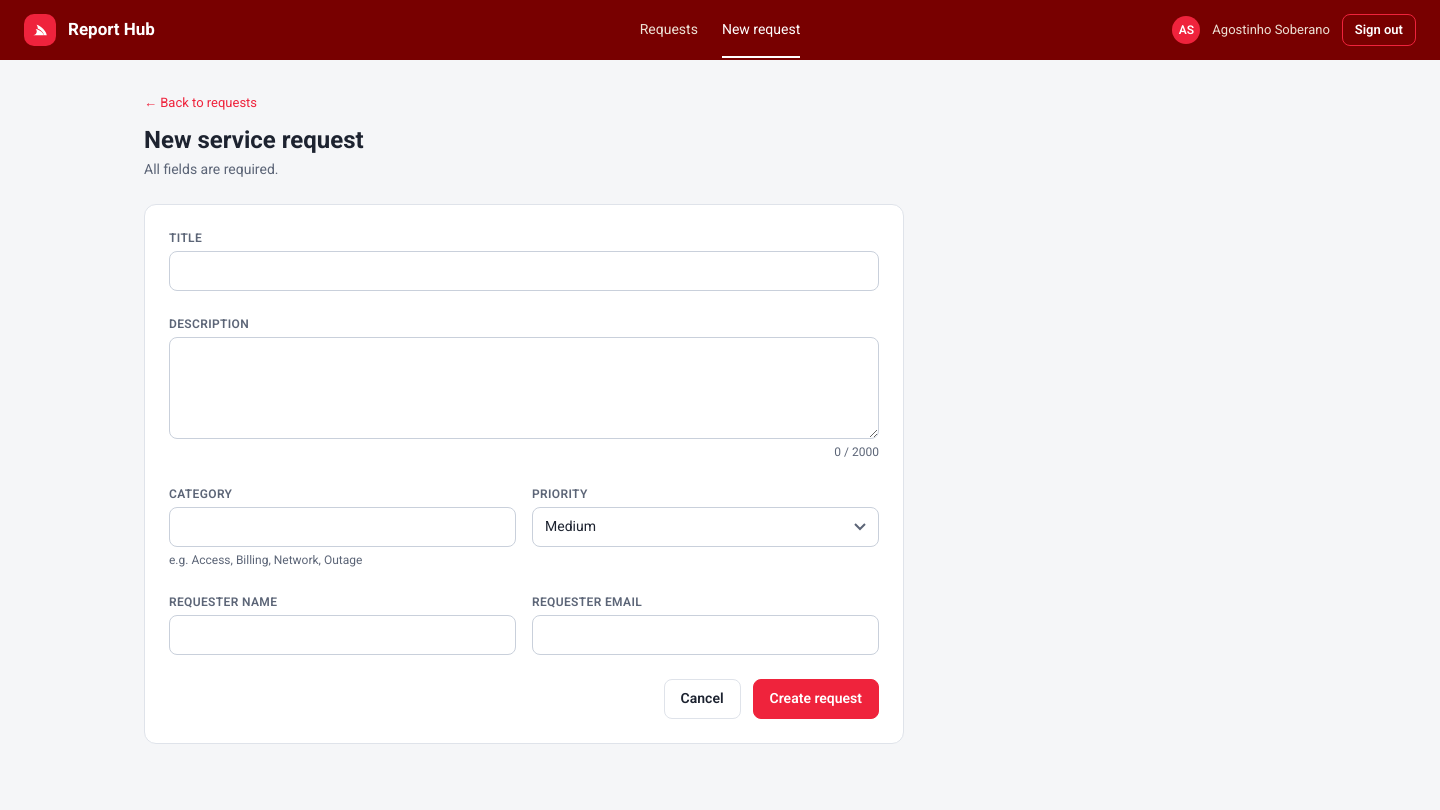
Test case: create request › creates the request and opens it
Type "March statement missing" into the field labelled "Title" at [524, 270], box 169,250 -> 879,290
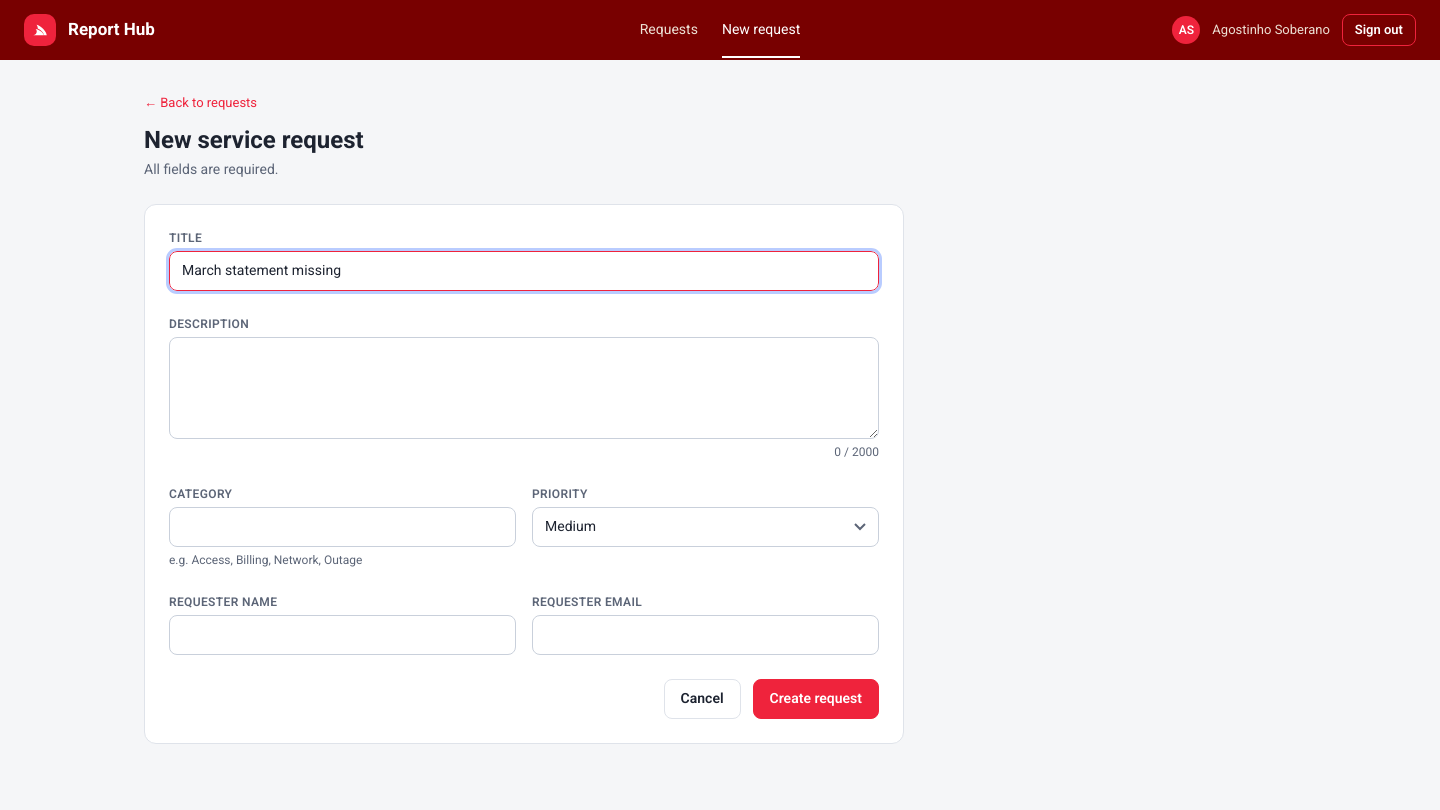
Type "The customer cannot see the March statement." into the text box labelled "Description" at [524, 388], box 169,336 -> 879,438
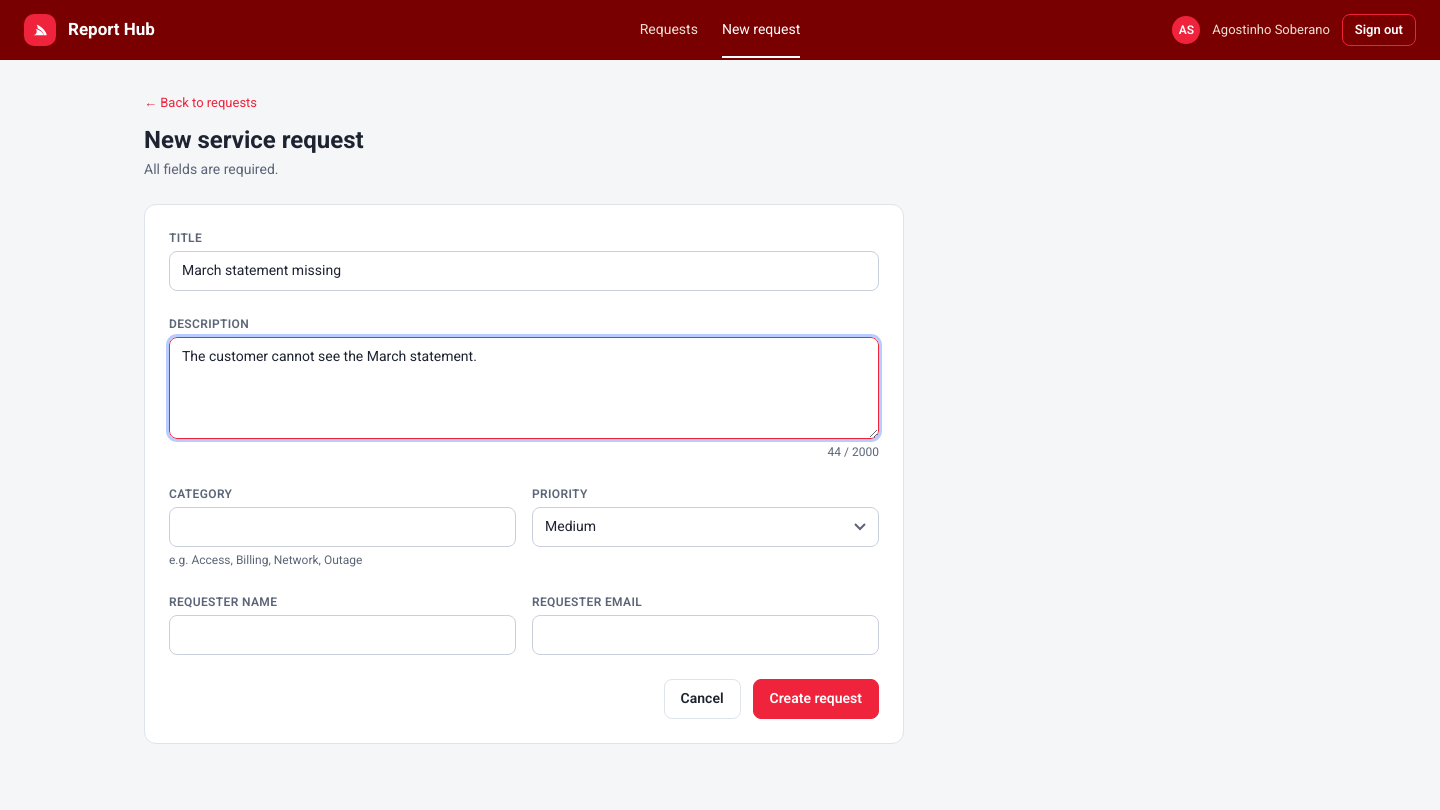
Type "Billing" into the field labelled "Category" at [342, 526], box 169,506 -> 516,546
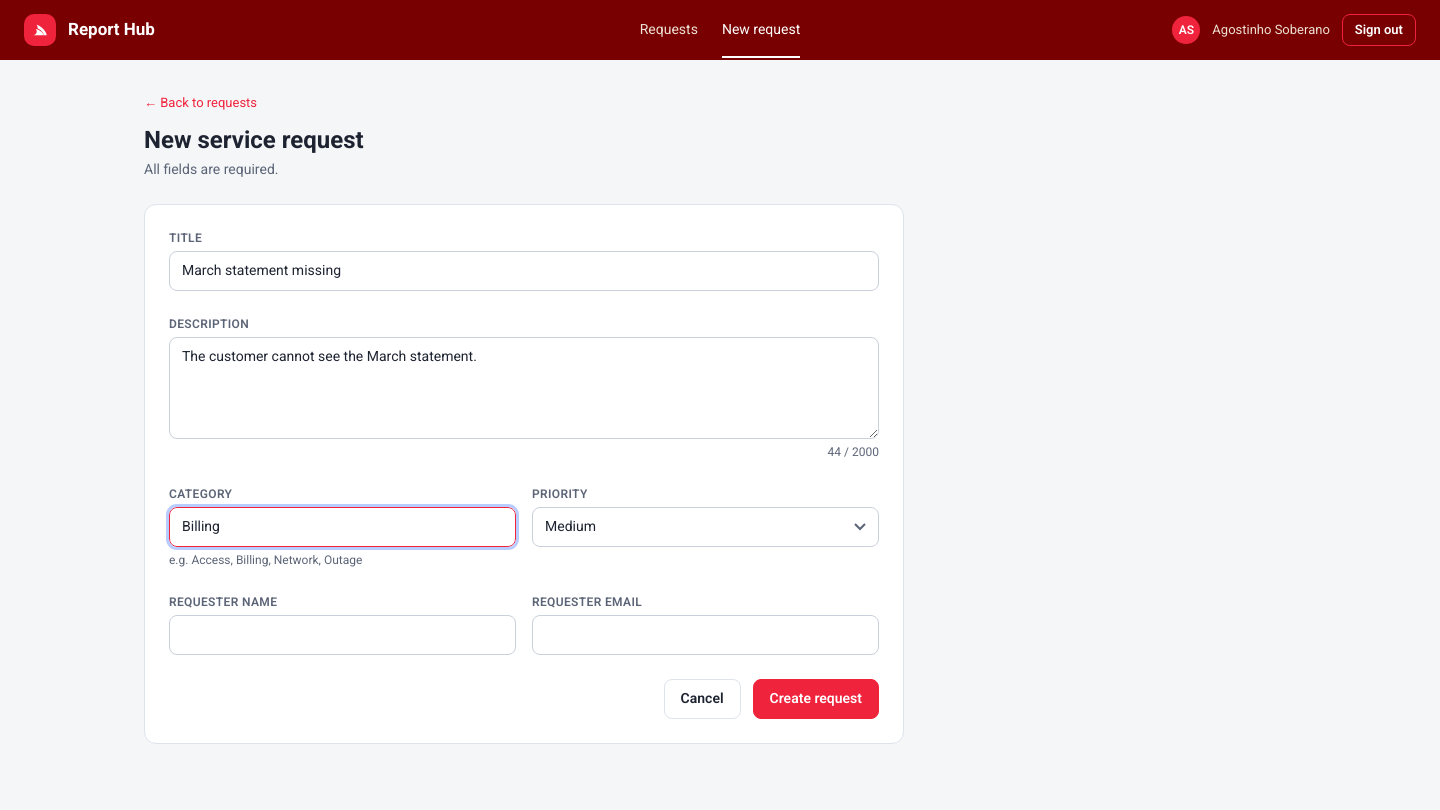
Type "Example Customer" into the field labelled "Requester name" at [342, 634], box 169,614 -> 516,654
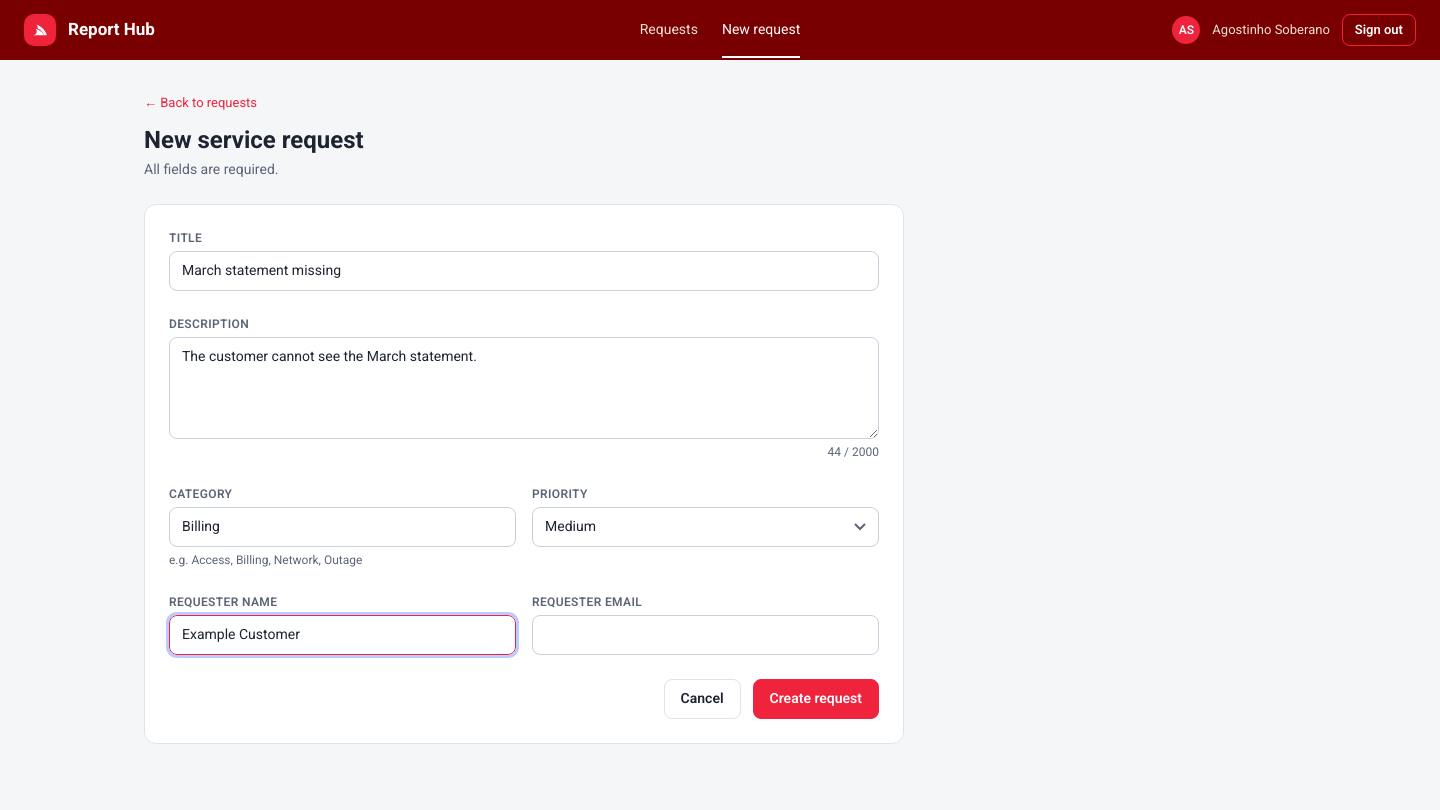
Type "customer@example.com" into the field labelled "Requester email" at [706, 634], box 532,614 -> 879,654
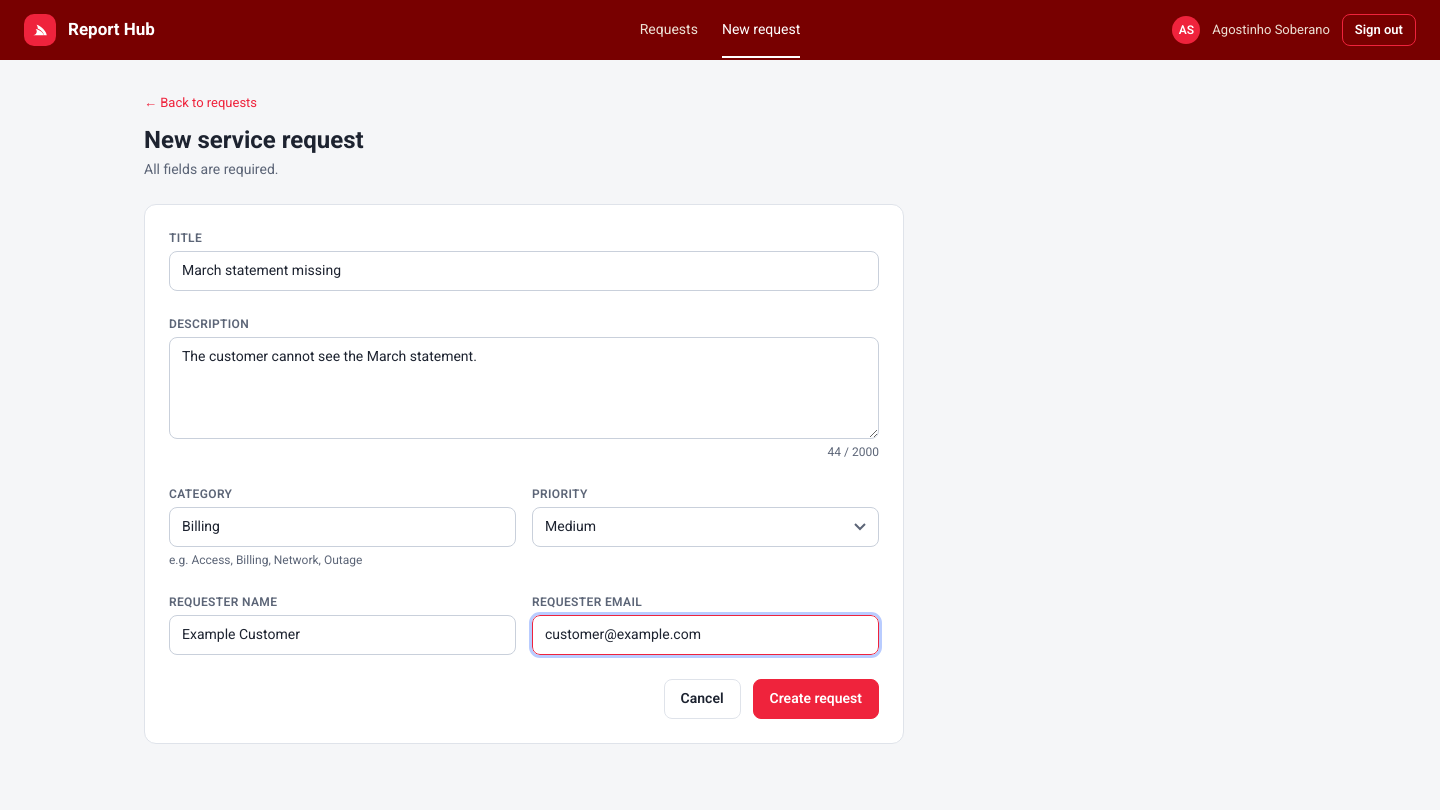
Click the button "Create request" at [816, 698], box 753,678 -> 879,718
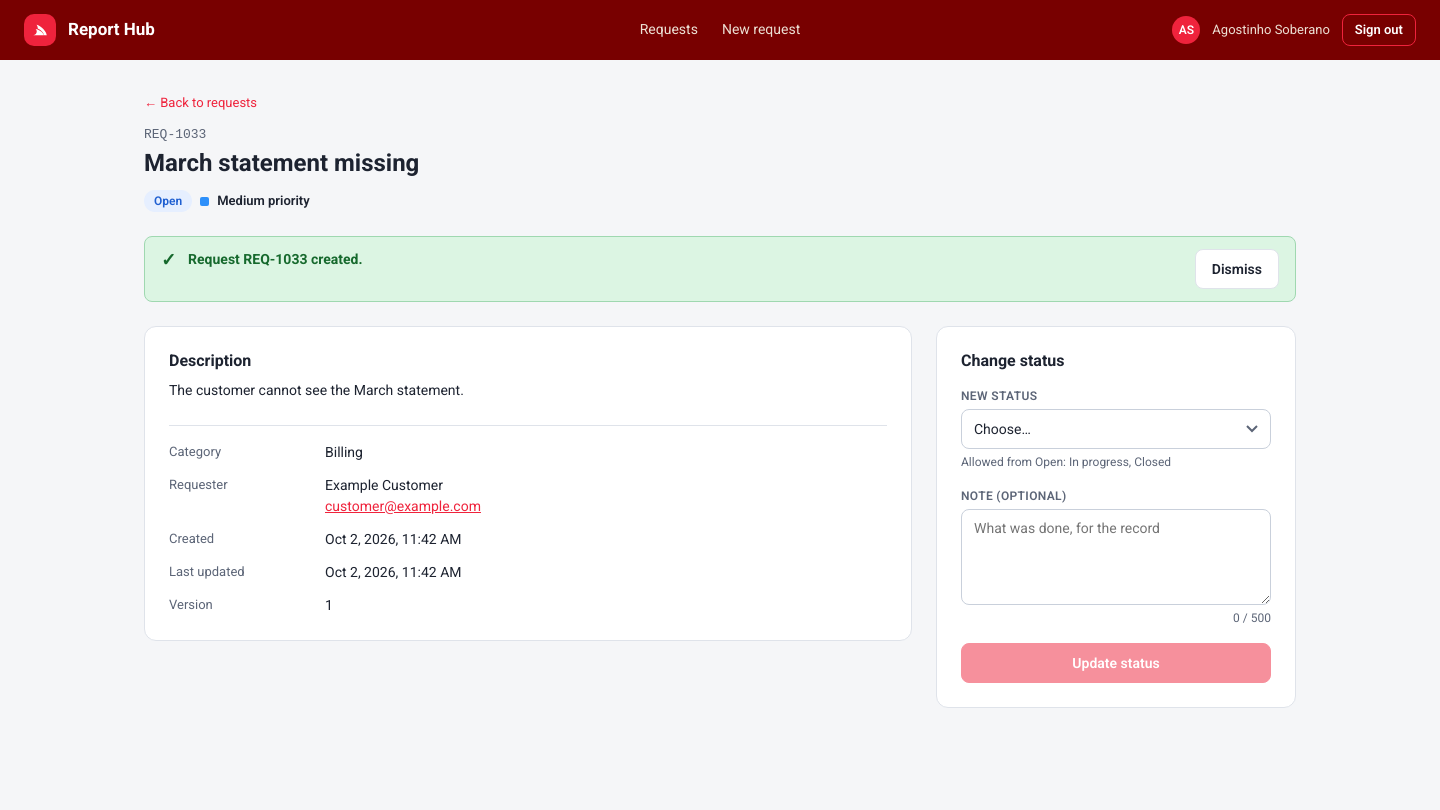
Now the text "Request REQ-1033 created." is shown, box 188,251 -> 363,267
Now the heading "March statement missing" is shown, box 144,149 -> 419,177
